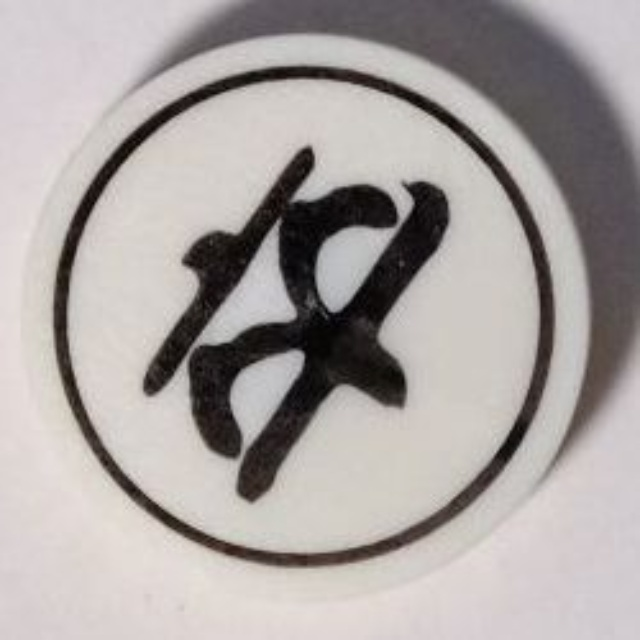black_chot: (22, 30, 604, 594)
